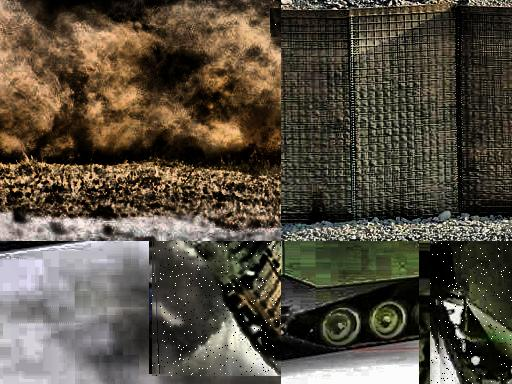tanks: (282, 242, 442, 350), (192, 242, 282, 370), (435, 242, 512, 384), (271, 10, 282, 34)
